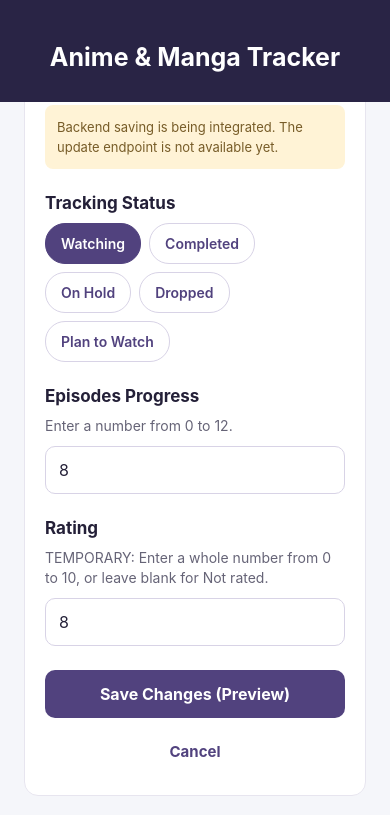
Test: Edit Library Screen › rejects ratings greater than 10
The width and height of the screenshot is (390, 815).
(page scrolled)
Replace the text in the field named "Rating" with "11" at (195, 622), box [45,598,345,646]
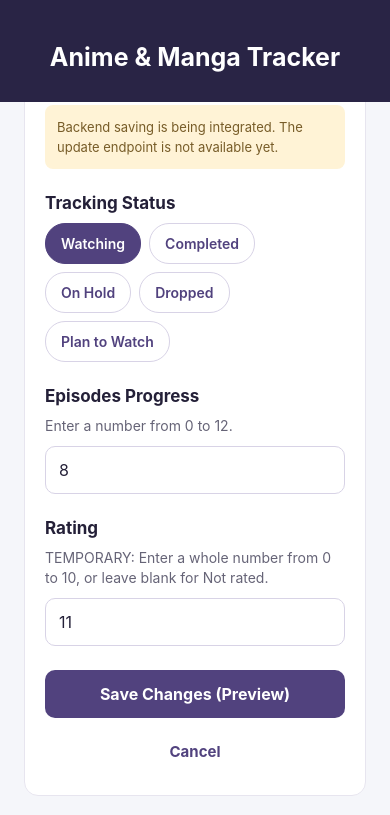
Click the button "Save Changes (Preview)".
click(195, 694)  # box [45,670,345,718]
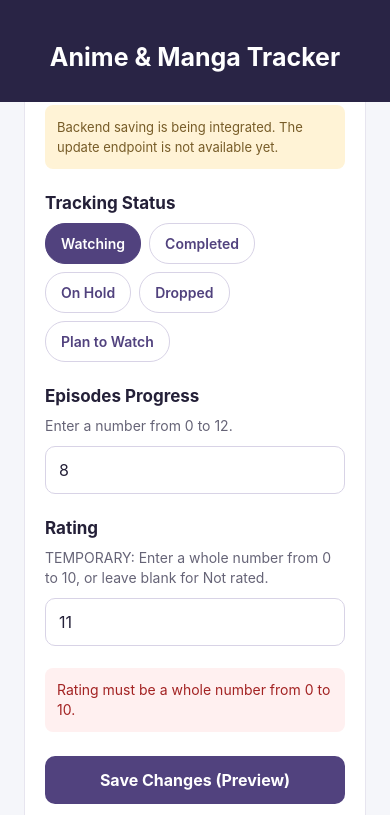
Result: the text "Rating must be a whole number from 0 to 10." is shown at [57,680,333,720]
